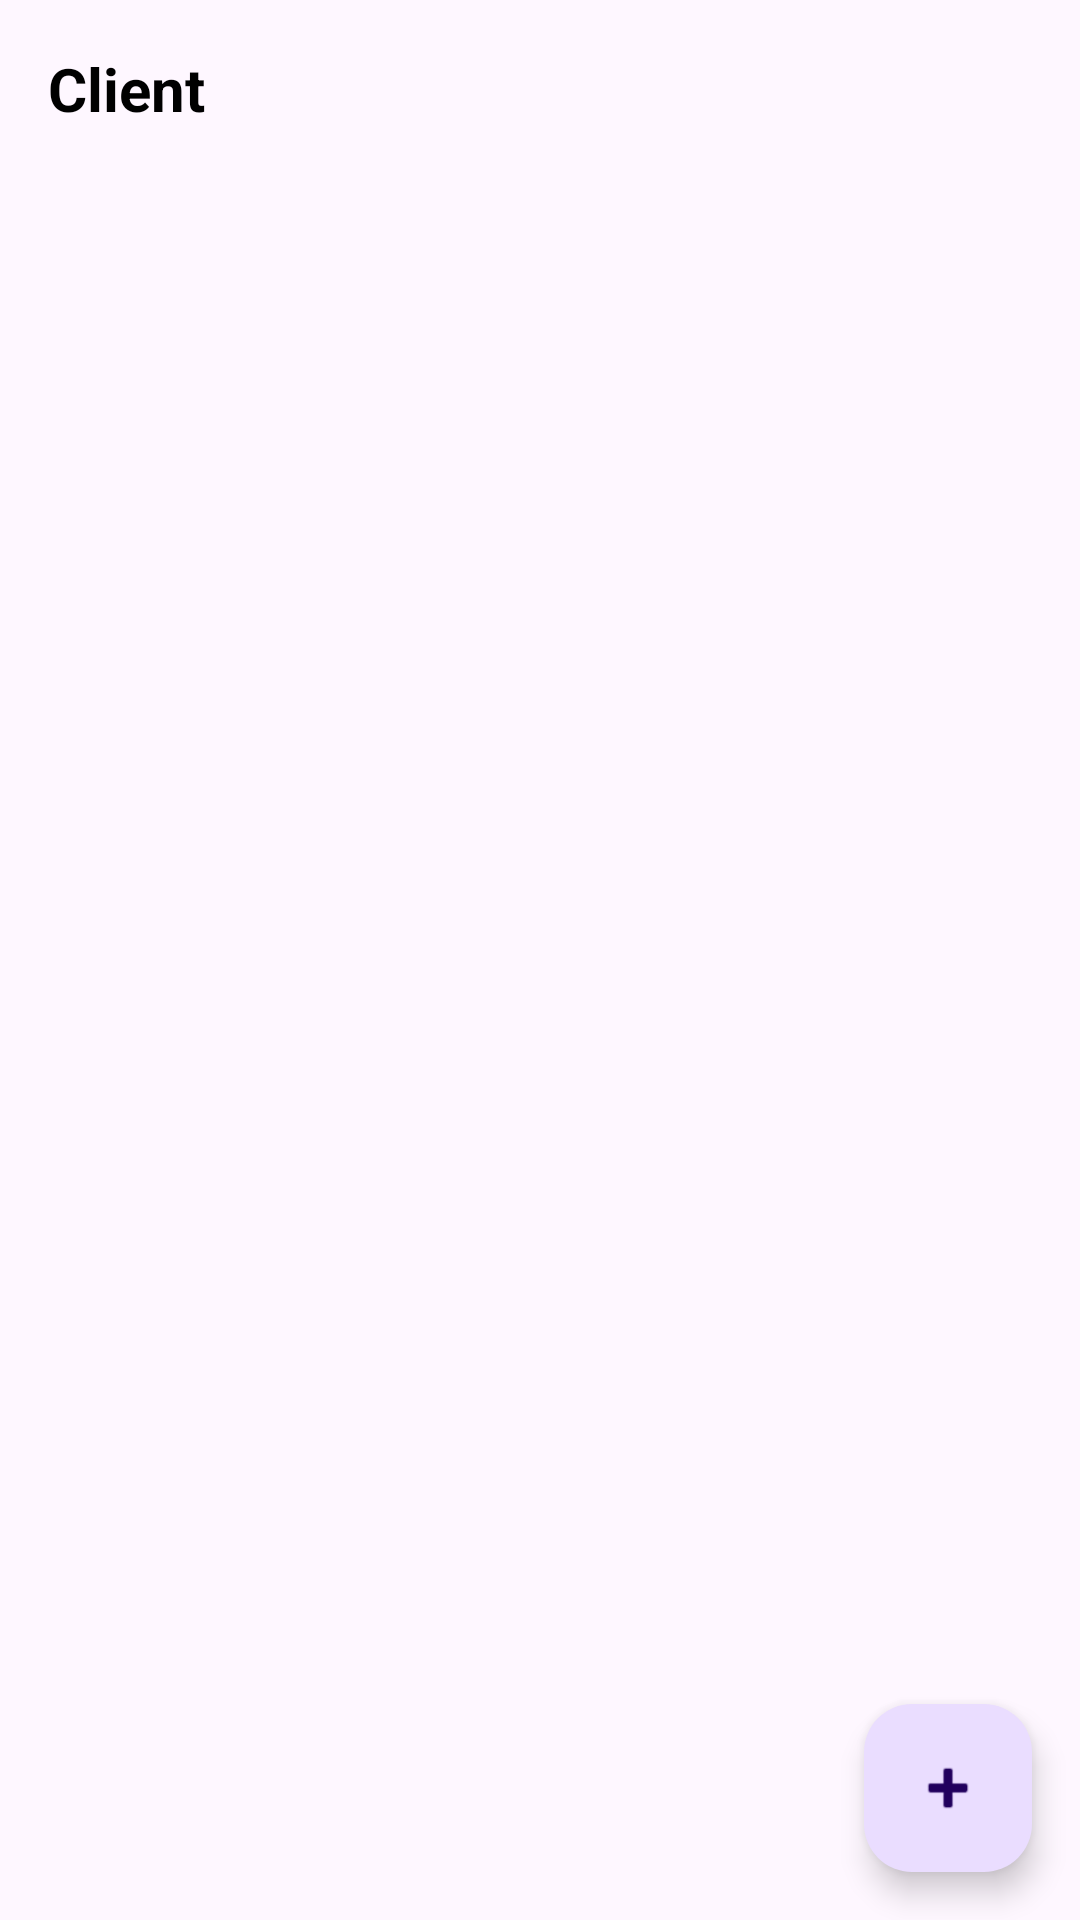

Named icons in this screenshot (1080×1920) and their centers, [x,y]:
Add Box: [948,1788]
